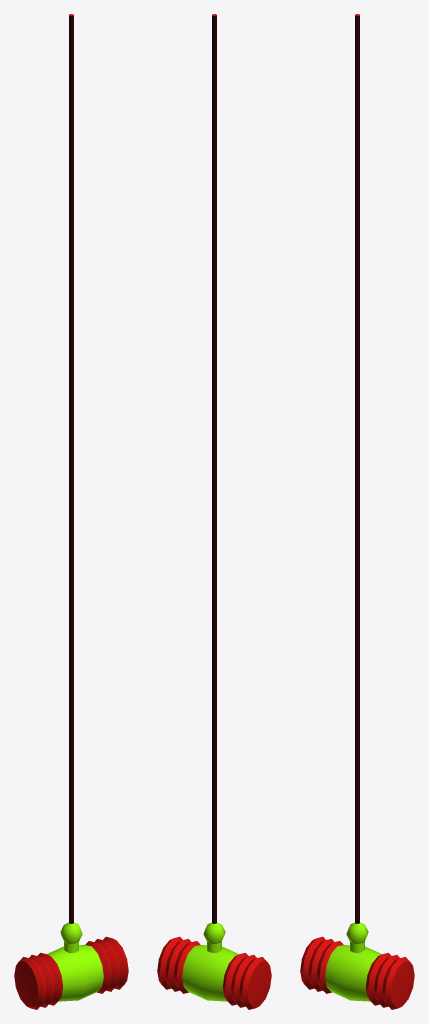
Rendered from hammer.fbx.
3 views of the same model, side by side, from view 1: azimuth 30°, elevation 25°; view 2: azimuth 150°, elevation 25°; view 3: azimuth 330°, elevation 25° (orthographic).
Visible parts, largest first — view 1: hammer; view 2: hammer; view 3: hammer.
Part boxes in pixels (left/top/right/bottom): hammer: left=14, top=14, right=128, bottom=1009; hammer: left=157, top=14, right=271, bottom=1009; hammer: left=300, top=14, right=414, bottom=1009.
Size of the model in its own units: 582 by 5833 by 302.
